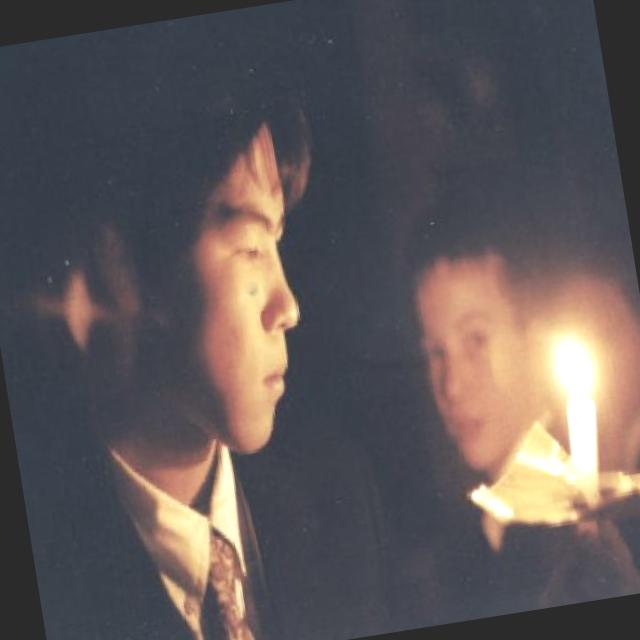Person: (35, 90, 418, 640), (338, 181, 640, 630)
